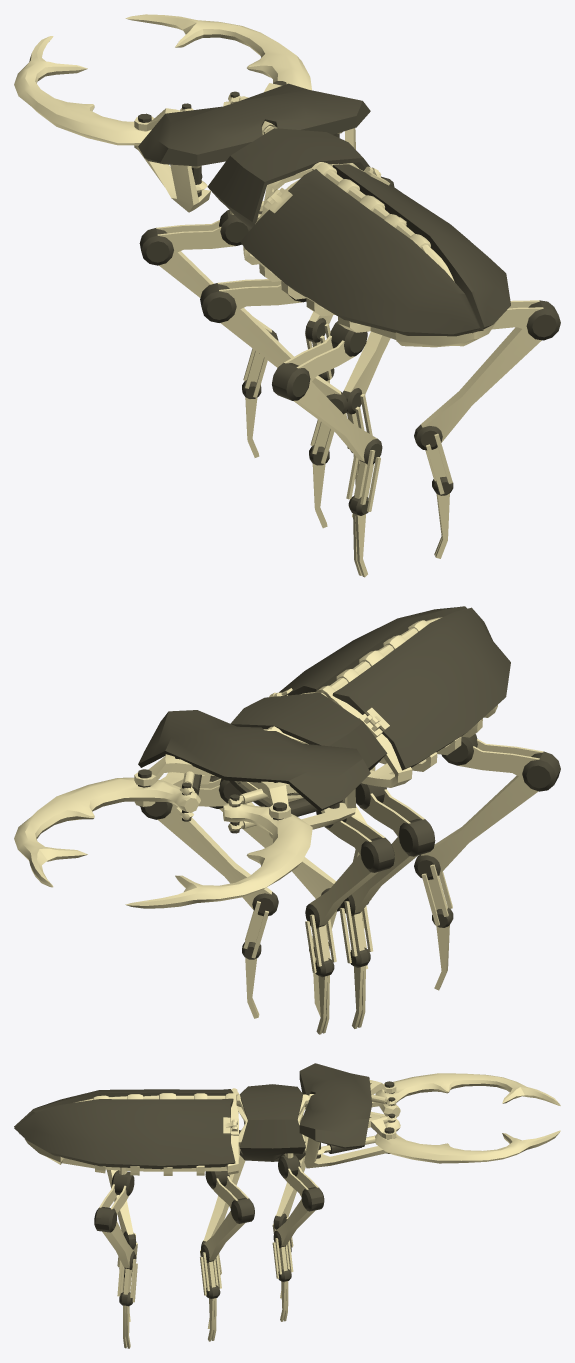
Rendered from stag_beetle.fbx.
The picture shows the model from 3 angles, top to bottom: view 1: azimuth 30°, elevation 25°; view 2: azimuth 150°, elevation 25°; view 3: azimuth 270°, elevation 25°; orthographic projection. The views are drawn at different scales.
Parts seen in each view (by area): view 1: stag_beetle_flaps_R, stag_beetle_shell, stag_beetle_back_legs, stag_beetle_pincers, stag_beetle_middle_legs, stag_beetle_flaps_L, stag_beetle_front_legs, stag_beetle_bottom_armature, stag_beetle_skull; view 2: stag_beetle_shell, stag_beetle_flaps_R, stag_beetle_pincers, stag_beetle_front_legs, stag_beetle_back_legs, stag_beetle_middle_legs, stag_beetle_bottom_armature, stag_beetle_skull, stag_beetle_flaps_L, stag_beetle_pincer_jacks.001, stag_beetle_pincer_jacks; view 3: stag_beetle_flaps_L, stag_beetle_shell, stag_beetle_pincers, stag_beetle_middle_legs, stag_beetle_front_legs, stag_beetle_back_legs, stag_beetle_bottom_armature, stag_beetle_skull, stag_beetle_flaps_R, stag_beetle_torso_armature, stag_beetle_pincer_jacks.001.
Boxes of the visible parts, x1,y1,x2,y2 form: stag_beetle_flaps_R: (240, 169, 483, 336); stag_beetle_shell: (138, 83, 370, 228); stag_beetle_back_legs: (272, 300, 560, 577); stag_beetle_pincers: (14, 14, 311, 145); stag_beetle_middle_legs: (200, 279, 390, 528); stag_beetle_flaps_L: (332, 164, 510, 333); stag_beetle_front_legs: (139, 176, 394, 457); stag_beetle_bottom_armature: (243, 162, 497, 347); stag_beetle_skull: (134, 81, 355, 212); stag_beetle_shell: (138, 692, 387, 811); stag_beetle_flaps_R: (332, 607, 510, 770); stag_beetle_pincers: (14, 777, 312, 908); stag_beetle_front_legs: (140, 778, 394, 1034); stag_beetle_back_legs: (353, 734, 560, 990); stag_beetle_middle_legs: (209, 766, 435, 1028); stag_beetle_bottom_armature: (301, 617, 497, 787); stag_beetle_skull: (134, 729, 356, 838); stag_beetle_flaps_L: (269, 606, 466, 697); stag_beetle_pincer_jacks.001: (179, 774, 318, 831); stag_beetle_pincer_jacks: (179, 771, 294, 806); stag_beetle_flaps_L: (14, 1098, 236, 1169); stag_beetle_shell: (239, 1063, 372, 1161); stag_beetle_pincers: (375, 1073, 560, 1163); stag_beetle_middle_legs: (200, 1130, 254, 1341); stag_beetle_front_legs: (272, 1115, 324, 1321); stag_beetle_back_legs: (94, 1167, 137, 1348); stag_beetle_bottom_armature: (24, 1093, 238, 1175); stag_beetle_skull: (304, 1080, 396, 1168); stag_beetle_flaps_R: (14, 1088, 234, 1133); stag_beetle_torso_armature: (236, 1094, 308, 1154); stag_beetle_pincer_jacks.001: (317, 1111, 386, 1155).
Bounding box in the file's own units: 161 × 188 × 385.
